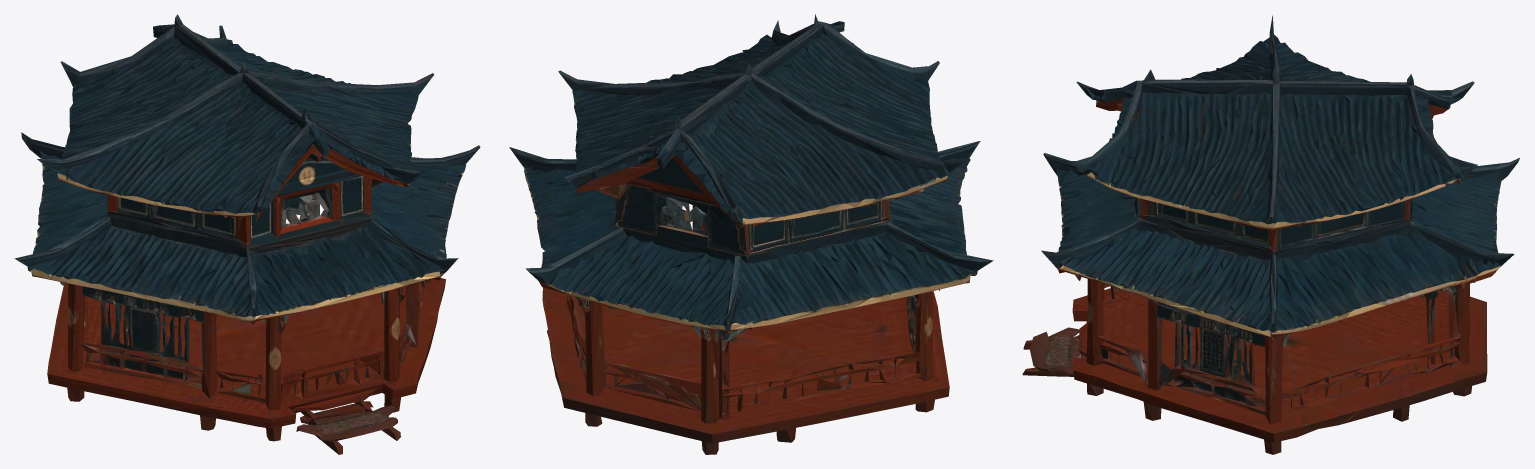
Rendered from tea_pavilion.glb.
3 views of the same model, side by side, from view 1: azimuth 30°, elevation 25°; view 2: azimuth 150°, elevation 25°; view 3: azimuth 270°, elevation 25° (orthographic). The views are drawn at different scales.
Size of the model in its own units: 1.9 by 1.15 by 1.76.
1 material, 1 textured.
